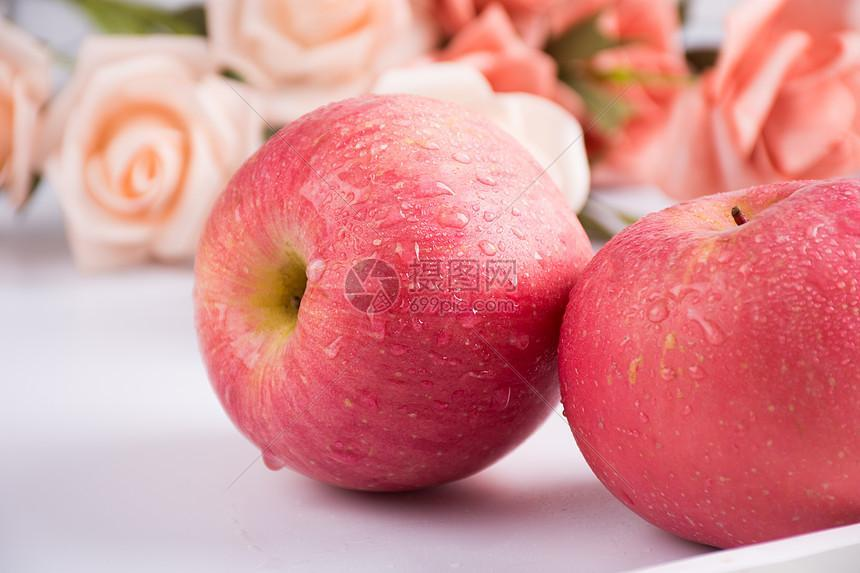apple: (194, 95, 588, 490), (557, 182, 856, 555)
